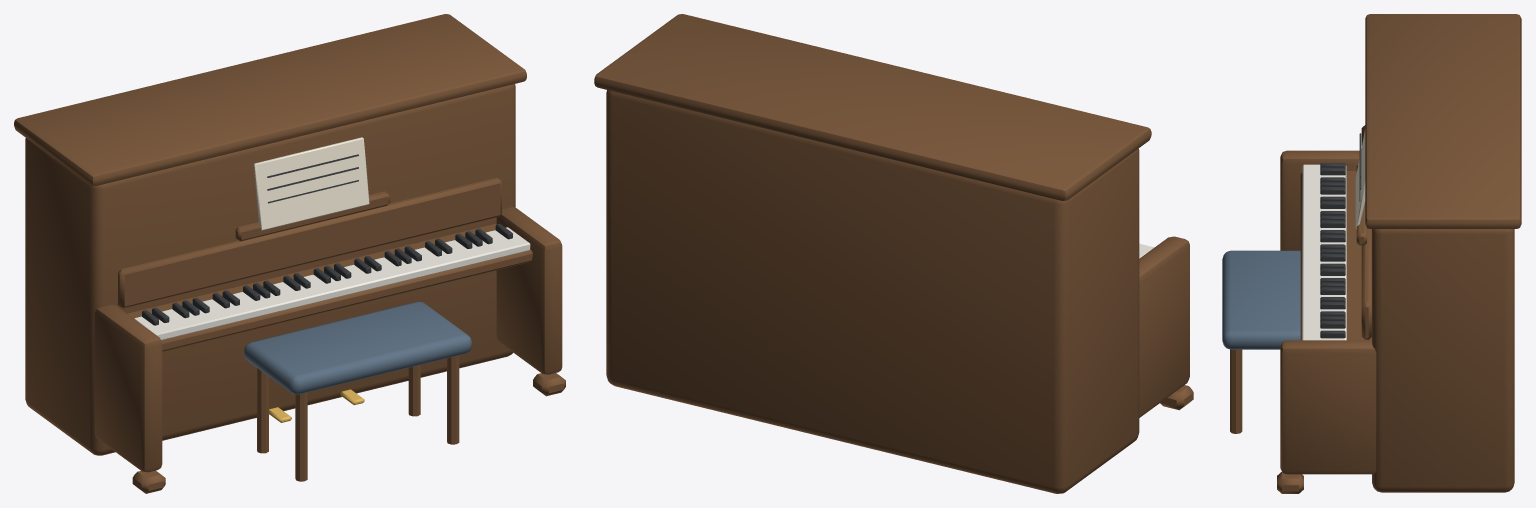
File: piano.glb
3 views of the same model, side by side, from view 1: azimuth 30°, elevation 25°; view 2: azimuth 150°, elevation 25°; view 3: azimuth 270°, elevation 25° (orthographic). The views are drawn at different scales.
Parts seen in each view (by area): view 1: walnut, vinyl, sheet, paper, bag; view 2: walnut; view 3: walnut, vinyl, sheet, bag, paper.
Boxes of the visible parts, box(x1,y1,x2,y2) form: walnut: box(14, 14, 565, 493); vinyl: box(244, 301, 471, 394); sheet: box(134, 227, 530, 340); paper: box(253, 137, 369, 230); bag: box(142, 154, 512, 325); walnut: box(594, 14, 1193, 493); walnut: box(1230, 14, 1521, 493); vinyl: box(1222, 250, 1300, 349); sheet: box(1302, 164, 1346, 340); bag: box(1320, 133, 1361, 338); paper: box(1355, 129, 1365, 228).
Size of the model in its own units: 1.44 by 0.91 by 0.88.
